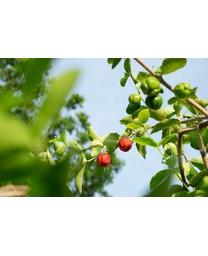cherry: (119, 137, 132, 151), (97, 151, 110, 165)
